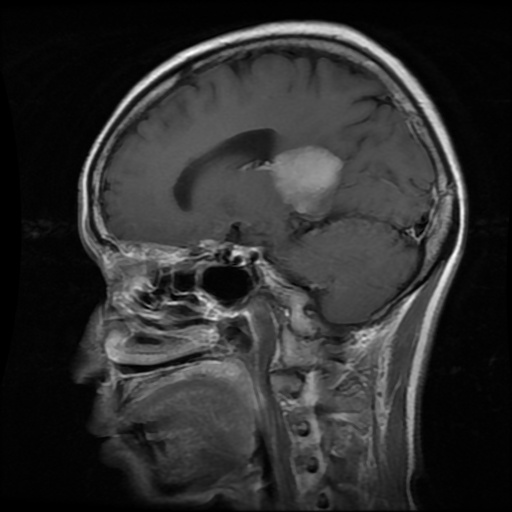meningioma: (270, 145, 342, 219)
